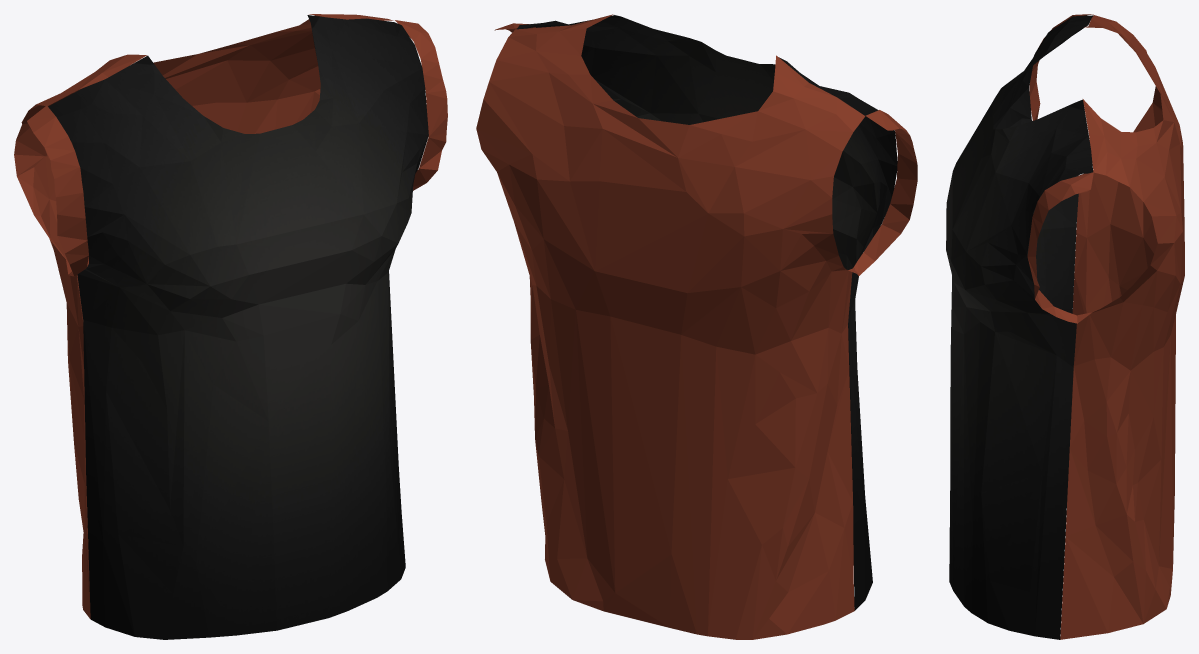
3 views of the same model, side by side, from view 1: azimuth 30°, elevation 25°; view 2: azimuth 150°, elevation 25°; view 3: azimuth 270°, elevation 25° (orthographic). The views are drawn at different scales.
Visible parts, largest first — view 1: T_shirt.007; view 2: T_shirt.007; view 3: T_shirt.007.
Part boxes in pixels (x1,y1,x2,y2): T_shirt.007: (14,14,447,639); T_shirt.007: (476,14,917,639); T_shirt.007: (946,14,1184,639).
Bounding box in the file's own units: 0.2935 × 0.3892 × 0.1639.
Materials: 2 (1 with a texture image).
